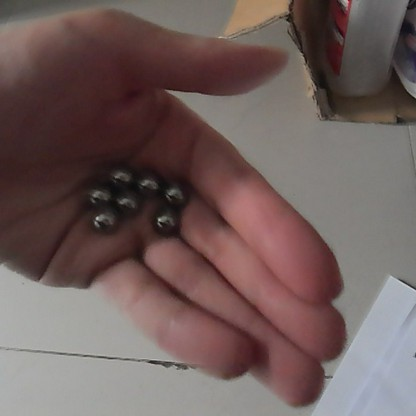ironball: (84, 207, 120, 236), (134, 166, 162, 198), (151, 206, 181, 235), (108, 186, 139, 214), (83, 180, 111, 210), (107, 161, 134, 190), (162, 180, 188, 208)
